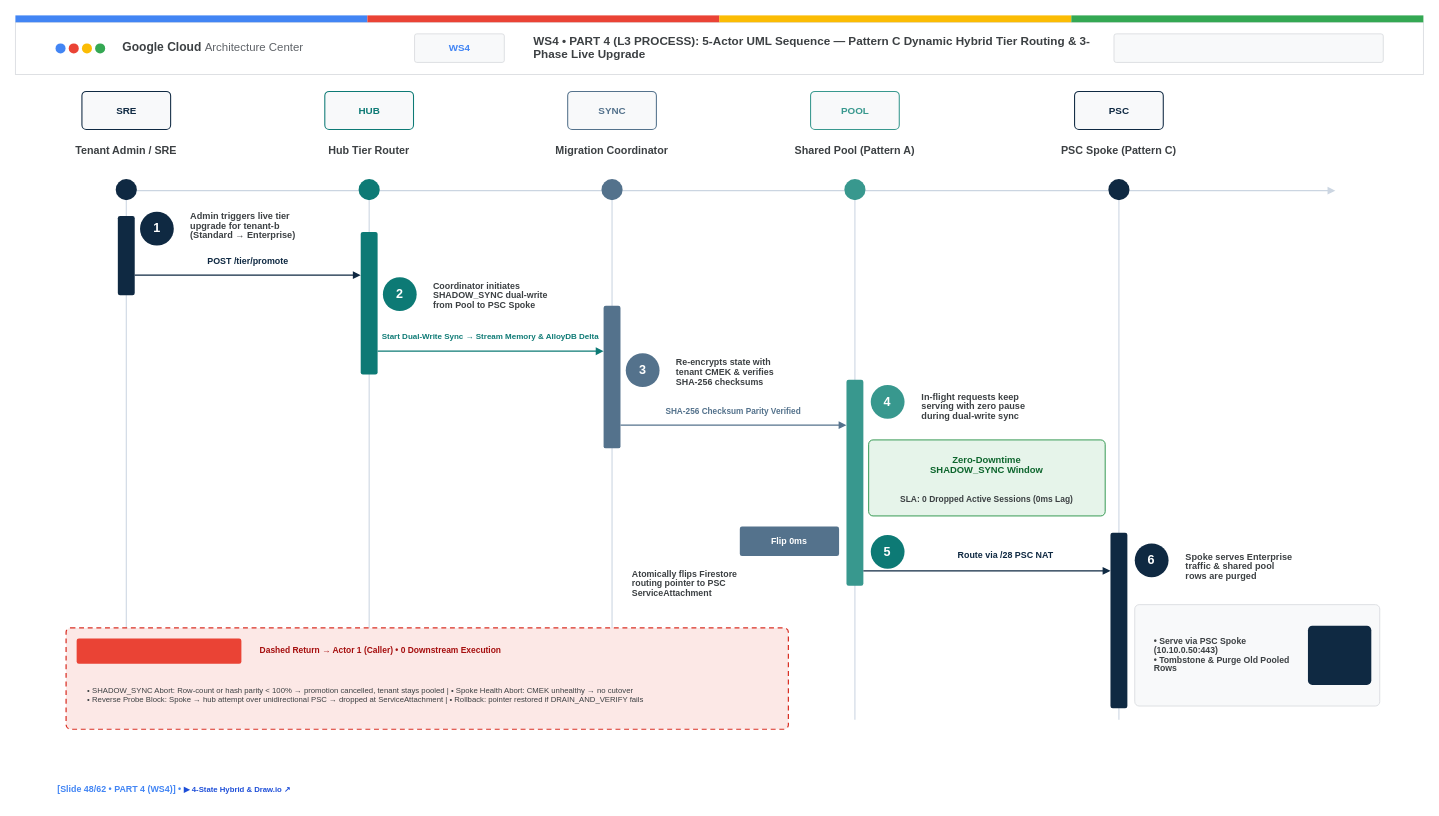
This 1439x816 diagram has some shape labels left out. Here are the shapes that lost their labels. From the top down, the box of each, then its label:
(1113, 33, 1383, 62): UML-SEQUENCE-SWIMLANE
(76, 638, 241, 663): [Alt] FAIL-CLOSED PATHS
(1308, 625, 1371, 684): PSC 0ms
